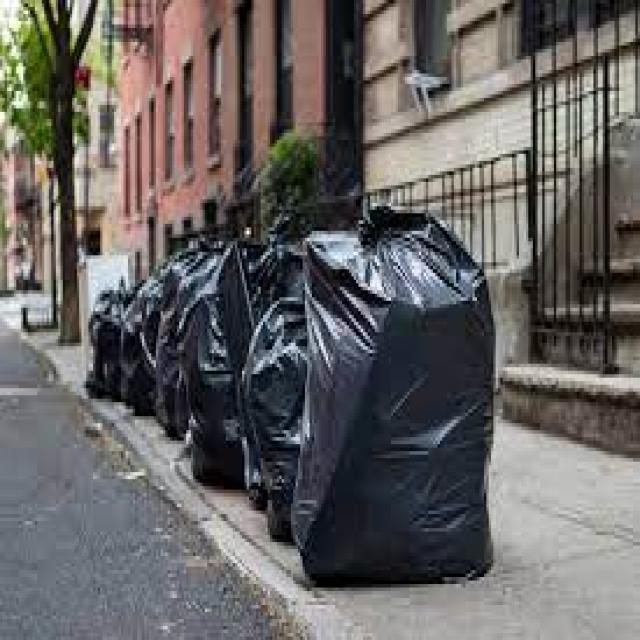high trash: (91, 210, 494, 583)
